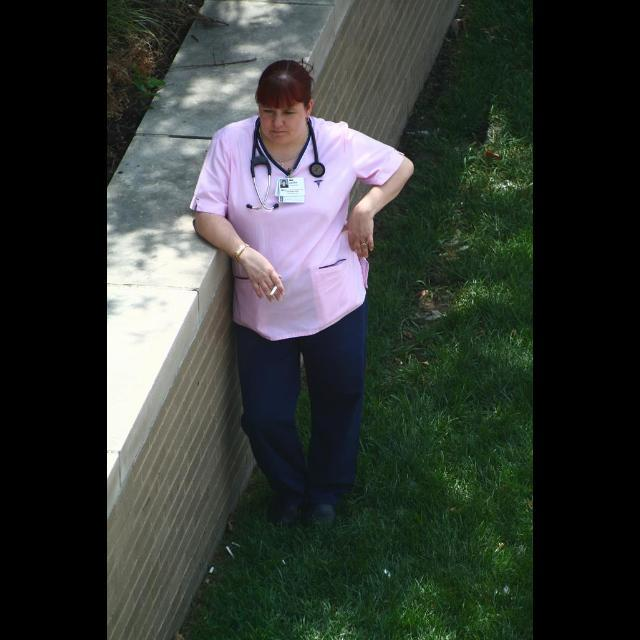rokok: (270, 283, 280, 297)
